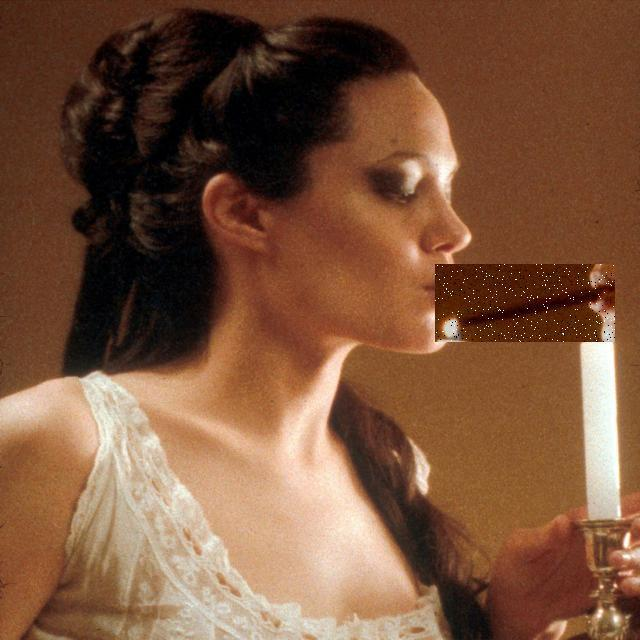smoking: (435, 264, 615, 342)
